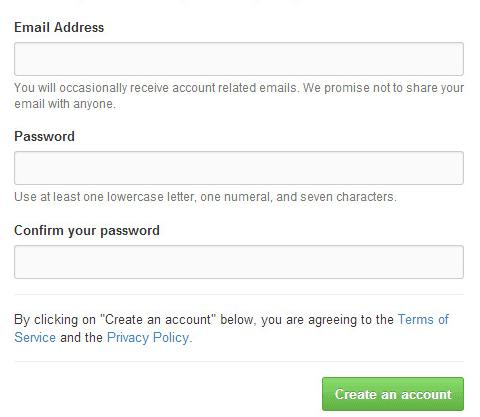button: (320, 375, 465, 414)
field: (12, 40, 464, 79), (11, 149, 465, 185), (14, 244, 467, 279)
field_with_label: (7, 20, 467, 81), (7, 129, 467, 187), (11, 224, 469, 282)
